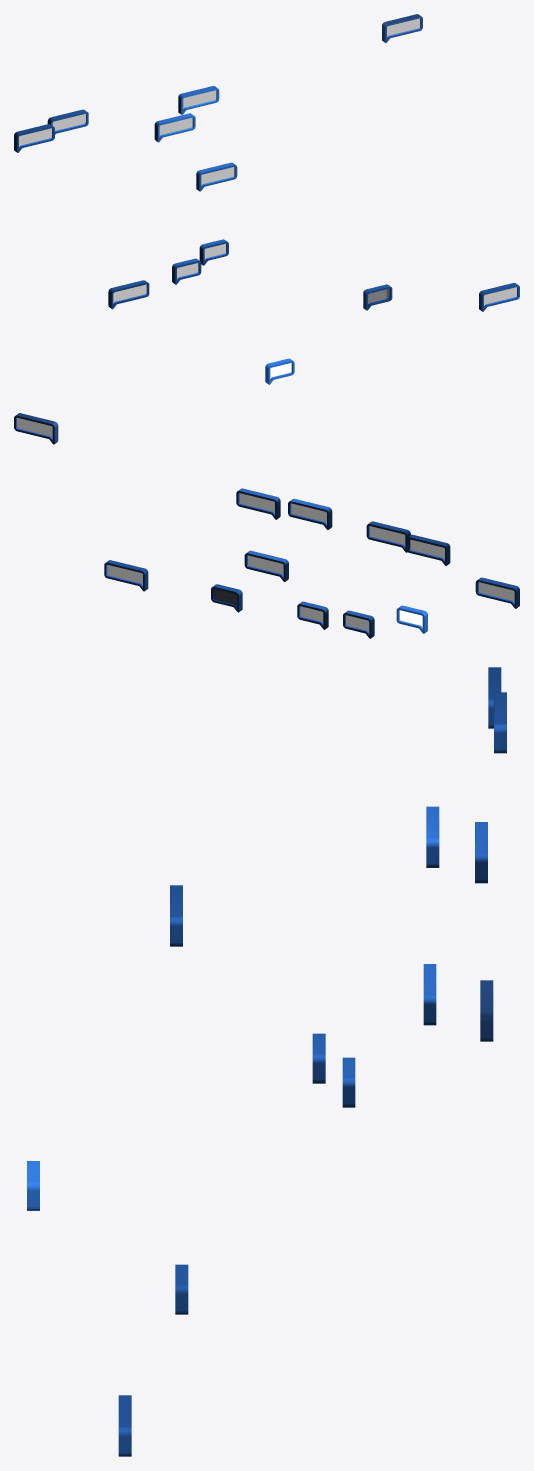
Rendered from pop_up_contact_me.glb.
3 renders of one model, top to bottom at view 1: azimuth 30°, elevation 25°; view 2: azimuth 150°, elevation 25°; view 3: azimuth 270°, elevation 25°, orthographic. The views are drawn at different scales.
Visible parts, largest first — view 1: pop_up_social_networks, pop_up_games, pop_up_travel, pop_up_development, pop_up_languages, pop_up_photography_right, pop_up_art, pop_up_photography_left, pop_up_running, pop_up_contact_me, pop_up_stereoscopy, pop_up_share_knowledge; view 2: pop_up_languages, pop_up_travel, pop_up_photography_right, pop_up_social_networks, pop_up_development, pop_up_games, pop_up_photography_left, pop_up_art, pop_up_share_knowledge, pop_up_contact_me, pop_up_stereoscopy, pop_up_running; view 3: no part large enough to name.
Part boxes in pixels (left/top/right/bottom): pop_up_social_networks: left=154, top=113, right=195, bottom=142; pop_up_games: left=108, top=280, right=149, bottom=309; pop_up_travel: left=178, top=86, right=219, bottom=114; pop_up_development: left=196, top=162, right=237, bottom=191; pop_up_languages: left=382, top=14, right=422, bottom=42; pop_up_photography_right: left=479, top=283, right=519, bottom=311; pop_up_art: left=14, top=124, right=54, bottom=152; pop_up_photography_left: left=47, top=109, right=88, bottom=134; pop_up_running: left=265, top=358, right=294, bottom=384; pop_up_contact_me: left=172, top=258, right=201, bottom=284; pop_up_stereoscopy: left=199, top=239, right=228, bottom=265; pop_up_share_knowledge: left=363, top=284, right=392, bottom=310; pop_up_languages: left=14, top=413, right=58, bottom=444; pop_up_travel: left=236, top=488, right=280, bottom=519; pop_up_photography_right: left=104, top=560, right=148, bottom=591; pop_up_social_networks: left=288, top=498, right=332, bottom=529; pop_up_development: left=244, top=550, right=288, bottom=581; pop_up_games: left=475, top=577, right=519, bottom=608; pop_up_photography_left: left=366, top=521, right=410, bottom=552; pop_up_art: left=408, top=534, right=450, bottom=565; pop_up_share_knowledge: left=211, top=584, right=242, bottom=612; pop_up_contact_me: left=343, top=610, right=374, bottom=638; pop_up_stereoscopy: left=297, top=601, right=328, bottom=629; pop_up_running: left=396, top=605, right=427, bottom=633.
Bounding box in the file's own units: 35.1 × 18.2 × 17.78.
12 materials, 12 textured.
